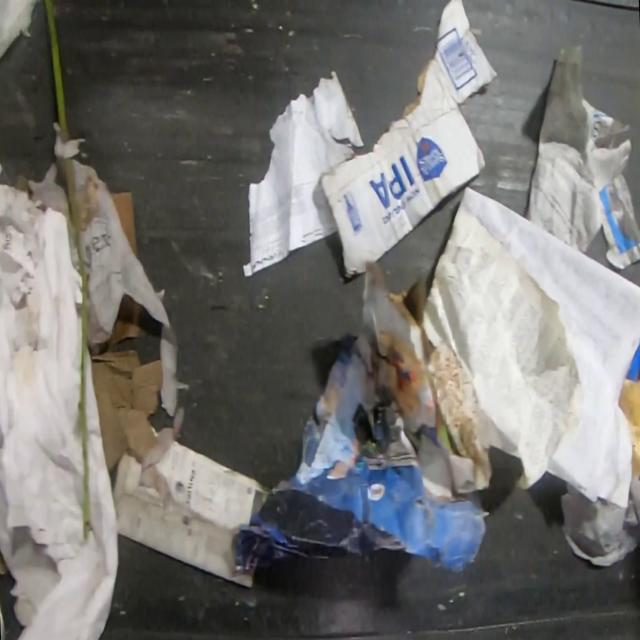cardboard: (320, 0, 495, 278), (358, 258, 492, 500), (88, 351, 163, 472), (107, 292, 145, 348), (109, 192, 136, 257)
